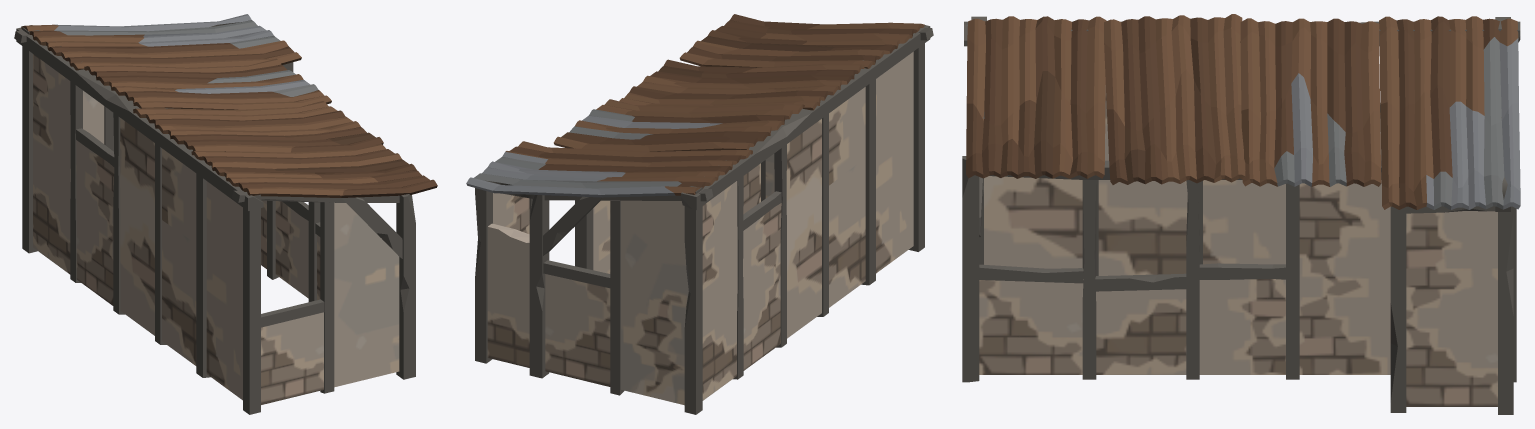
Rendered from SM_Bld_Shack_01.glb.
The picture shows the model from 3 angles, left to right: view 1: azimuth 30°, elevation 25°; view 2: azimuth 150°, elevation 25°; view 3: azimuth 270°, elevation 25°; orthographic projection. The views are drawn at different scales.
Visible parts, largest first — view 1: SM_Bld_Shack_01; view 2: SM_Bld_Shack_01; view 3: SM_Bld_Shack_01.
Part boxes in pixels (bbox=[...]): SM_Bld_Shack_01: bbox=[14, 14, 437, 414]; SM_Bld_Shack_01: bbox=[466, 14, 933, 414]; SM_Bld_Shack_01: bbox=[962, 14, 1520, 414].
Bounding box in the file's own units: 3.12 × 2.85 × 5.33.
Materials: 1 (1 with a texture image).
